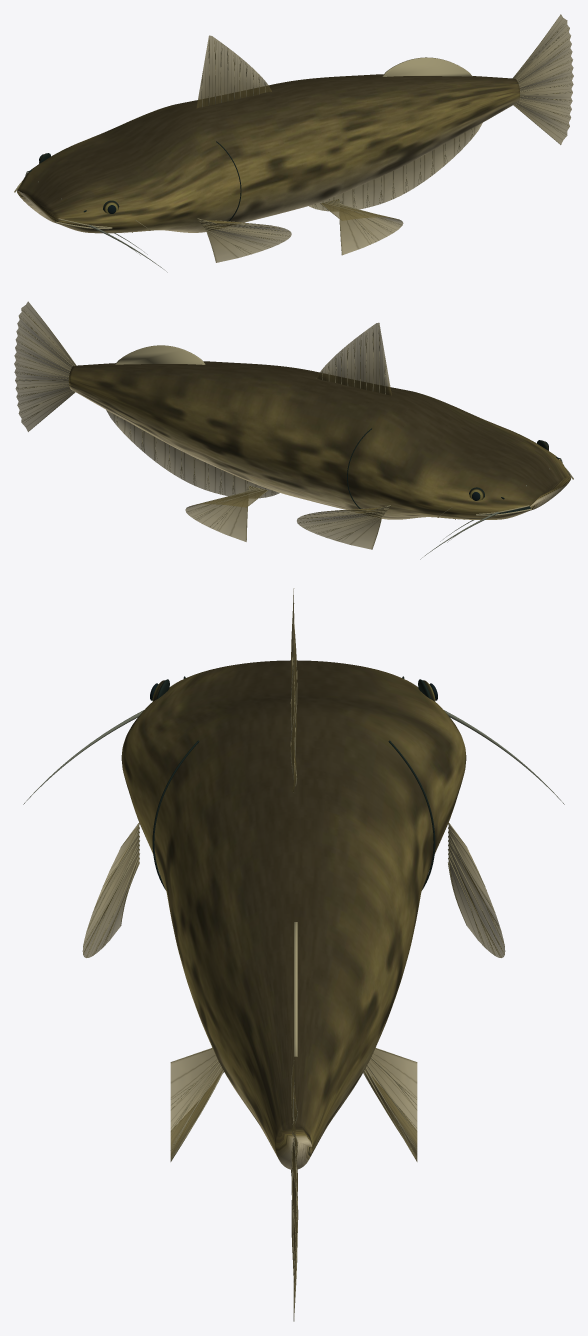
The model's file is flathead-catfish.glb.
3 renders of one model, top to bottom at view 1: azimuth 30°, elevation 25°; view 2: azimuth 150°, elevation 25°; view 3: azimuth 270°, elevation 25°, orthographic. The views are drawn at different scales.
Visible parts, largest first — view 1: flathead-catfish specimen; view 2: flathead-catfish specimen; view 3: flathead-catfish specimen.
Boxes of the visible parts, x1,y1,x2,y2 form: flathead-catfish specimen: (14,14,573,272); flathead-catfish specimen: (14,301,573,559); flathead-catfish specimen: (23,588,564,1321).
Bounding box in the file's own units: 2.28 × 0.8988 × 0.9942.
Materials: 14 (5 with a texture image).
